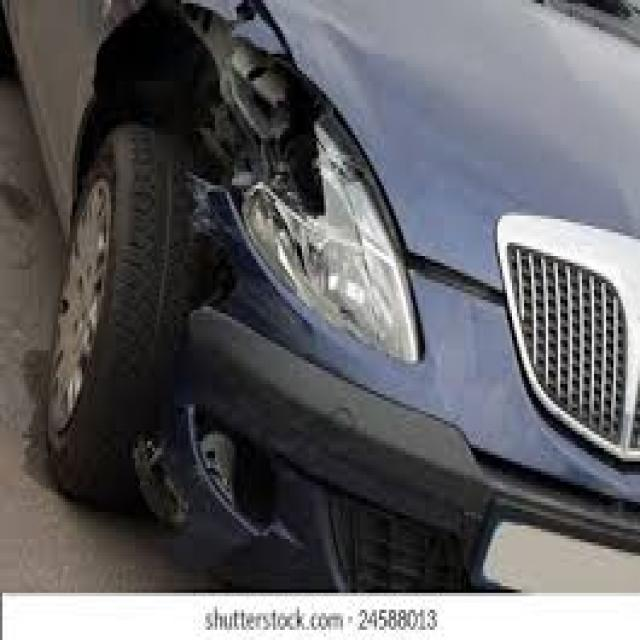damaged-head-light: (229, 64, 426, 367)
